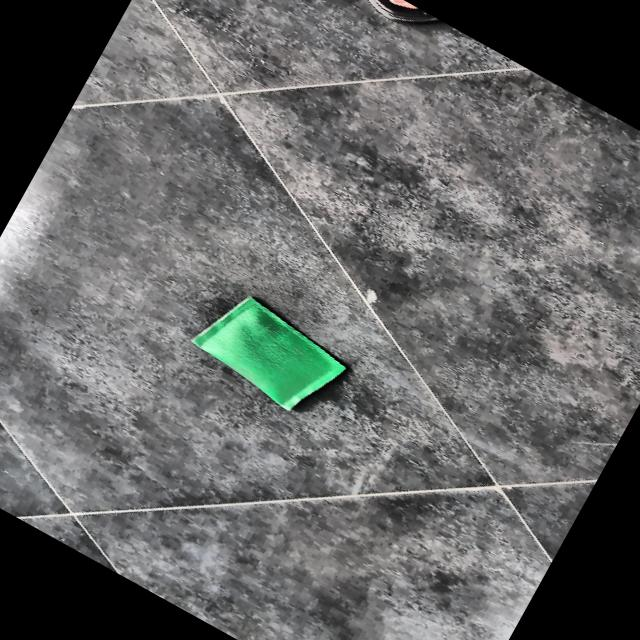payload: (192, 297, 346, 411)
